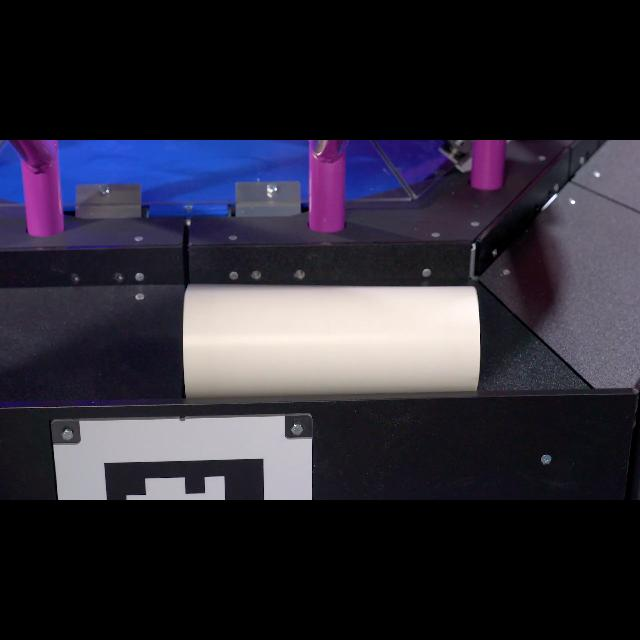CORAL: (183, 282, 482, 398)
